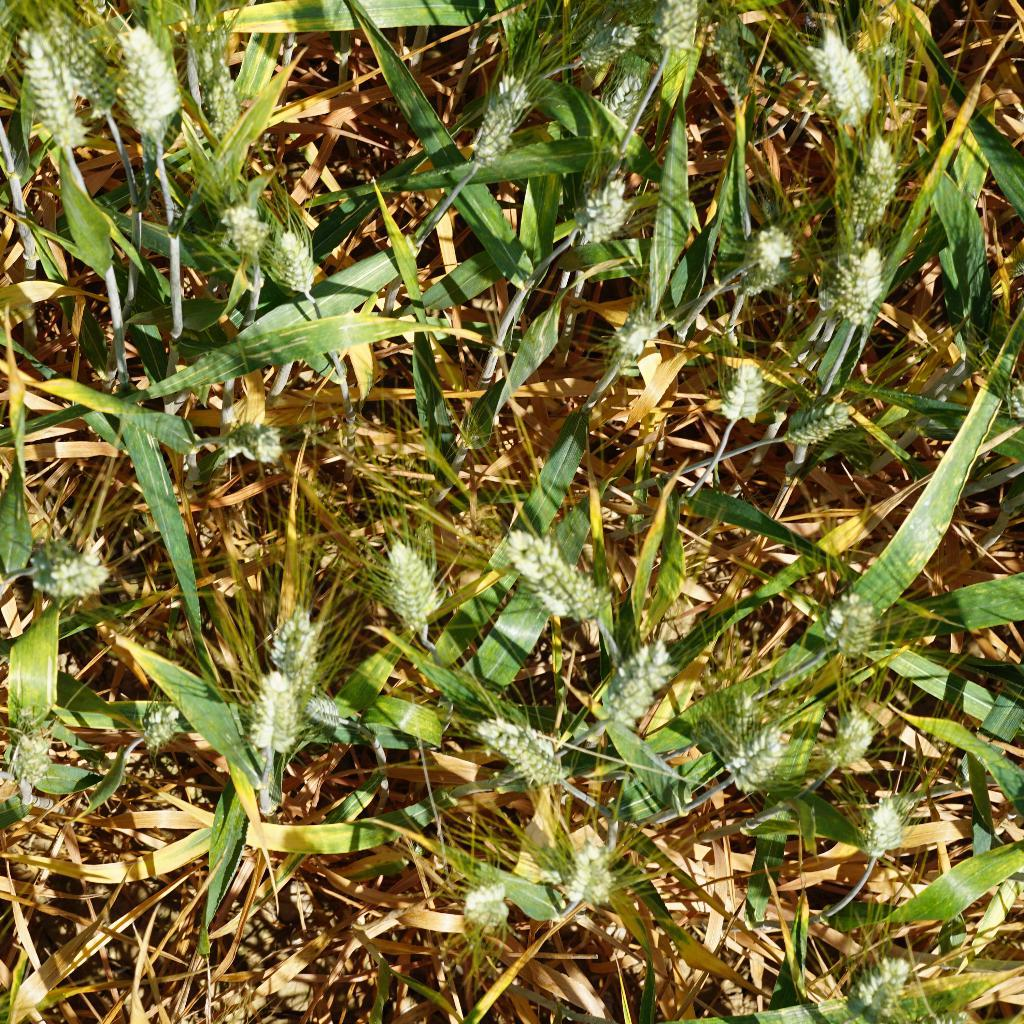0-0: (493, 523, 609, 639), (8, 27, 103, 163), (474, 699, 589, 799), (108, 15, 187, 156), (33, 12, 129, 122), (586, 630, 679, 733), (799, 29, 886, 135), (372, 524, 447, 646), (688, 675, 770, 776), (23, 523, 119, 609), (185, 25, 249, 152), (834, 134, 907, 238), (821, 245, 904, 332), (550, 832, 628, 922), (466, 70, 533, 171), (238, 665, 302, 770), (250, 597, 321, 691), (851, 785, 925, 874), (832, 948, 915, 1024), (773, 385, 848, 466), (819, 582, 881, 675), (565, 174, 636, 250), (0, 709, 62, 795), (258, 221, 326, 299), (210, 414, 296, 475), (709, 0, 755, 111), (560, 11, 636, 73), (630, 0, 713, 56), (724, 721, 783, 795), (814, 703, 879, 770), (703, 358, 769, 423), (610, 302, 666, 377), (455, 873, 519, 937), (217, 191, 271, 266), (589, 55, 643, 130), (728, 246, 789, 307), (133, 686, 186, 754), (735, 221, 795, 277), (291, 681, 347, 739), (0, 0, 19, 83), (886, 0, 946, 21)
